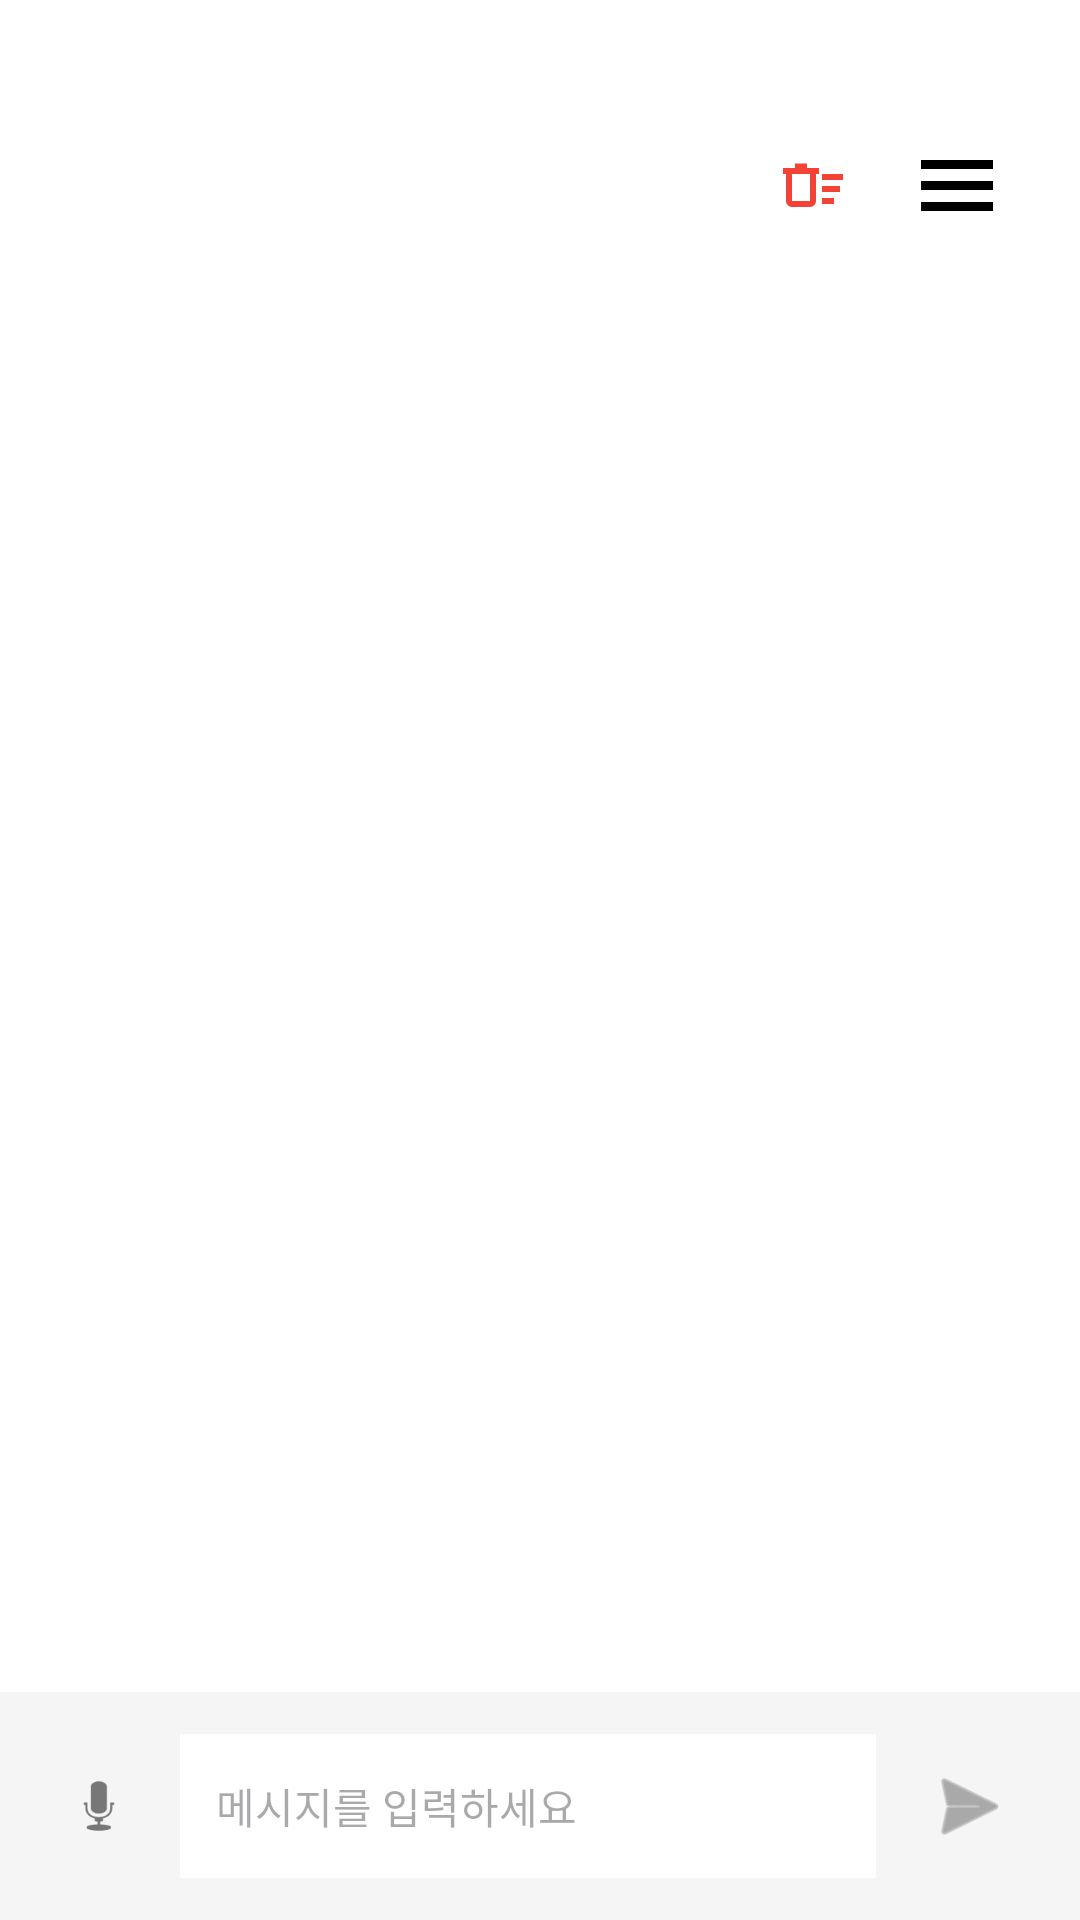

Locate icon controls on the screen. Image size 1080px×1920px, boxes as Rect(x1, y1, x2, y2).
음성 입력: Rect(83, 1781, 115, 1831)
전송: Rect(941, 1778, 998, 1835)
채팅 초기화: Rect(783, 163, 843, 207)
